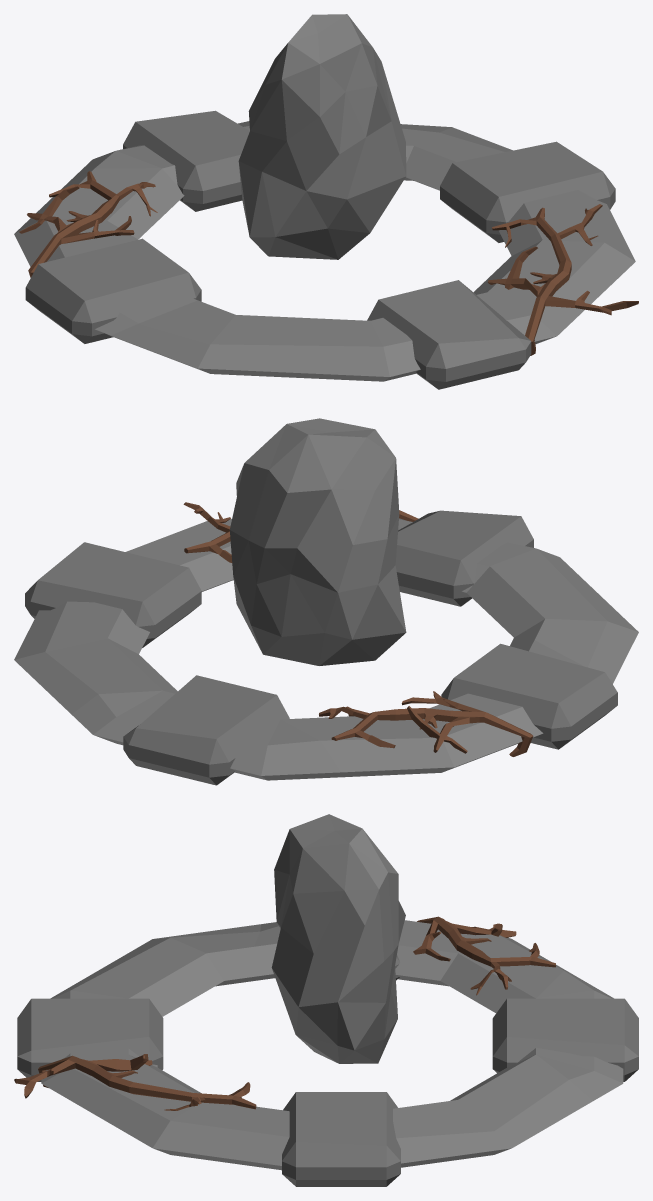
File: RitualStoneCircle.fbx
3 renders of one model, top to bottom at view 1: azimuth 30°, elevation 25°; view 2: azimuth 150°, elevation 25°; view 3: azimuth 270°, elevation 25°, orthographic. The views are drawn at different scales.
Visible parts, largest first — view 1: RitualStoneCircle; view 2: RitualStoneCircle; view 3: RitualStoneCircle.
Part boxes in pixels (x1,y1,x2,y2): RitualStoneCircle: (14,14,638,389); RitualStoneCircle: (14,418,638,785); RitualStoneCircle: (14,814,638,1186).
Size of the model in its own units: 699 by 296 by 711.
2 materials, 2 textured.
